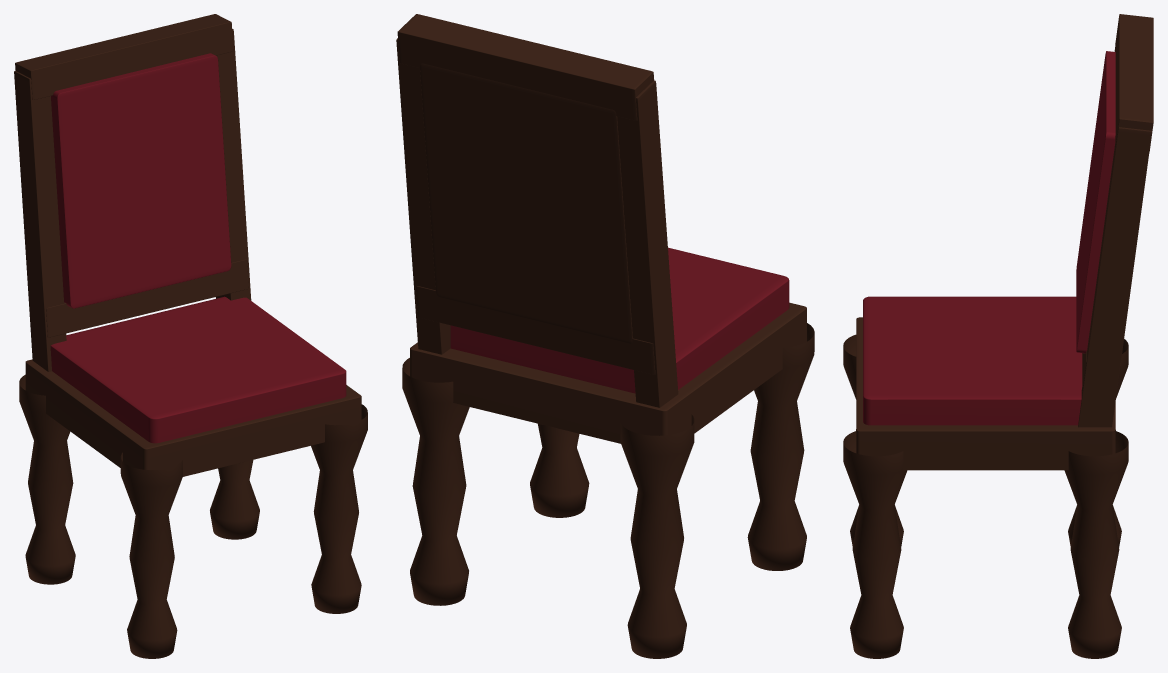
File: Chair_Red.fbx
3 views of the same model, side by side, from view 1: azimuth 30°, elevation 25°; view 2: azimuth 150°, elevation 25°; view 3: azimuth 270°, elevation 25° (orthographic). The views are drawn at different scales.
Visible parts, largest first — view 1: Red upholstered back insert.002, Seat cushion.002, Seat frame.002, Solid back stile.004, Turned leg.038, Back frame rail.005, Turned leg.040, Turned leg.039, Back frame rail.004, Solid back stile.005, Turned leg.041; view 2: Upholstery backing.002, Seat frame.002, Seat cushion.002, Solid back stile.004, Back frame rail.005, Turned leg.039, Turned leg.041, Turned leg.038, Back frame rail.004, Solid back stile.005, Turned leg.040; view 3: Seat cushion.002, Seat frame.002, Solid back stile.005, Turned leg.041, Turned leg.040, Red upholstered back insert.002, Back frame rail.005, Turned leg.038, Turned leg.039.
Boxes of the visible parts, <box> form: Red upholstered back insert.002: <box>51,53,231,308</box>; Seat cushion.002: <box>50,296,346,443</box>; Seat frame.002: <box>25,359,361,476</box>; Solid back stile.004: <box>14,71,66,371</box>; Turned leg.038: <box>120,452,182,658</box>; Back frame rail.005: <box>15,14,233,99</box>; Turned leg.040: <box>311,404,367,613</box>; Turned leg.039: <box>19,374,75,584</box>; Back frame rail.004: <box>46,259,248,337</box>; Solid back stile.005: <box>215,29,251,300</box>; Turned leg.041: <box>210,460,259,539</box>; Upholstery backing.002: <box>420,63,632,343</box>; Seat frame.002: <box>410,302,806,443</box>; Seat cushion.002: <box>450,247,789,393</box>; Solid back stile.004: <box>617,80,678,407</box>; Back frame rail.005: <box>397,14,654,120</box>; Turned leg.039: <box>620,414,694,658</box>; Turned leg.041: <box>402,358,469,605</box>; Turned leg.038: <box>747,323,814,570</box>; Back frame rail.004: <box>415,286,655,374</box>; Solid back stile.005: <box>396,38,450,354</box>; Turned leg.040: <box>530,423,589,517</box>; Seat cushion.002: <box>863,296,1082,425</box>; Seat frame.002: <box>856,317,1115,470</box>; Solid back stile.005: <box>1078,127,1151,427</box>; Turned leg.041: <box>1064,431,1128,658</box>; Turned leg.040: <box>843,431,907,658</box>; Red upholstered back insert.002: <box>1076,51,1115,353</box>; Back frame rail.005: <box>1115,14,1153,151</box>; Turned leg.038: <box>843,334,903,547</box>; Turned leg.039: <box>1068,339,1128,547</box>.
Size of the model in its own units: 0.57 by 1.14 by 0.5983.
